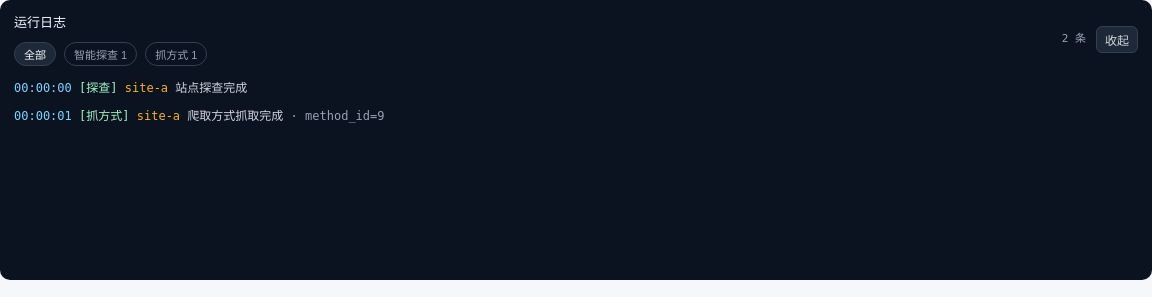
it: DiscoveryLogPanel › supports filtering between discovery and crawl-method logs
Click the button "抓方式 1". click: (176, 54)
box: [145,42,207,66]
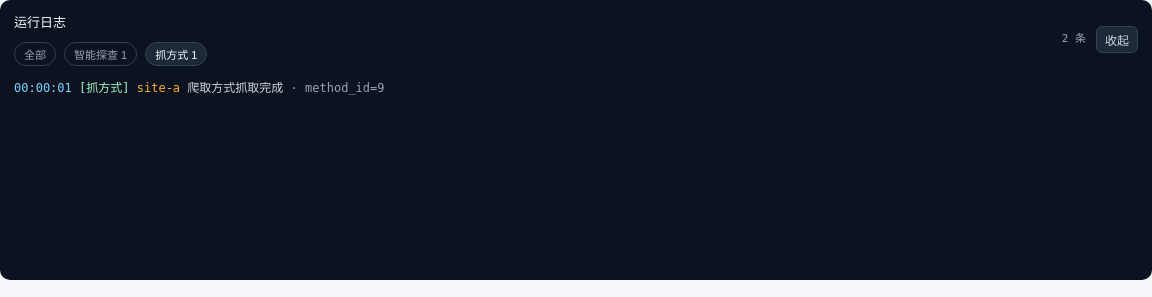
Expected: the text "爬取方式抓取完成" is shown, [187,81,283,95]
Result: the text "站点探查完成" is gone
